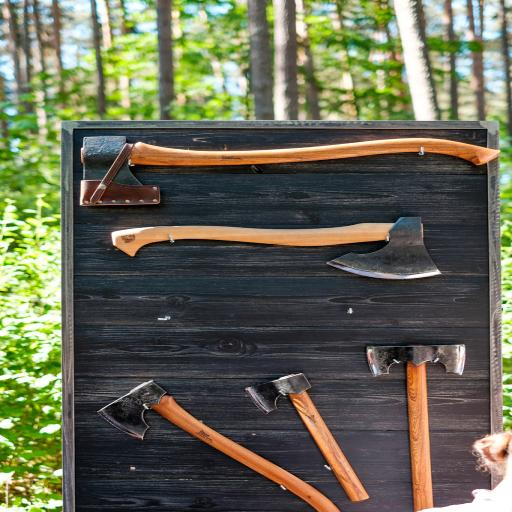Axe: (97, 380, 342, 512), (80, 131, 512, 205), (102, 380, 339, 512), (76, 131, 500, 200), (116, 218, 442, 280), (109, 224, 442, 279), (367, 340, 467, 508), (366, 342, 466, 509), (248, 372, 362, 503), (246, 374, 367, 497)
